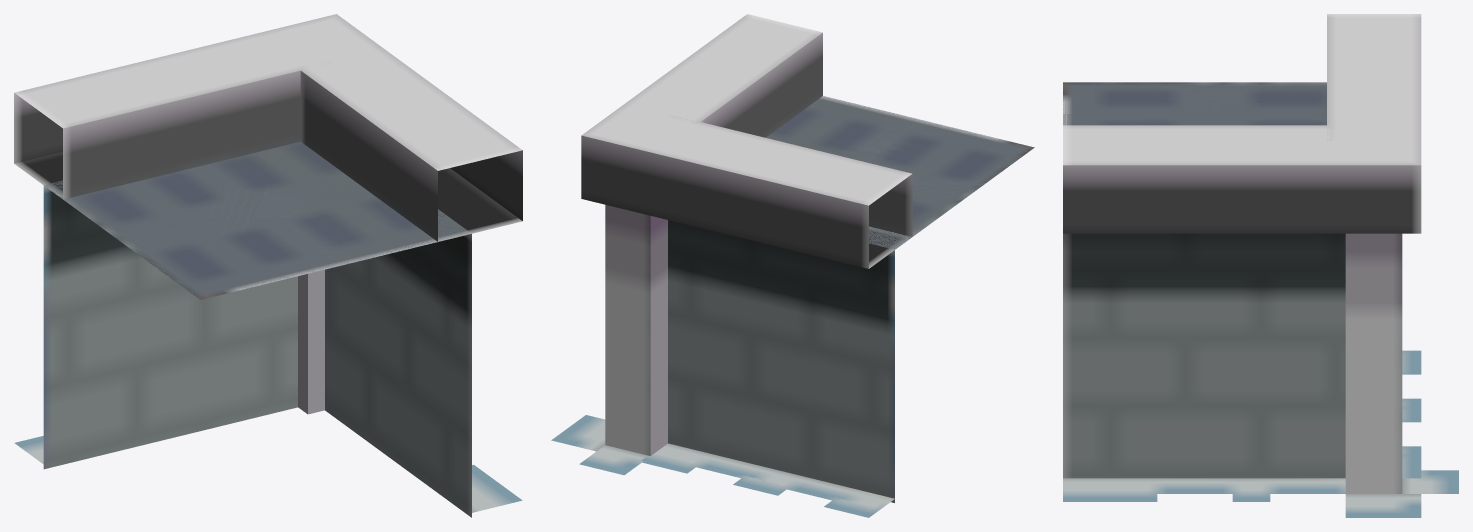
The model's file is Wall_Bricks_1.fbx.
3 views of the same model, side by side, from view 1: azimuth 30°, elevation 25°; view 2: azimuth 150°, elevation 25°; view 3: azimuth 270°, elevation 25° (orthographic). The views are drawn at different scales.
Parts seen in each view (by area): view 1: Wall_Corner_Top, Wall_Roof, Wall_Top, Wall_Corner_Bottom; view 2: Wall_Corner_Top, Wall_Top, Wall_Roof, Wall_Corner_Bottom, Wall_Bottom; view 3: Wall_Corner_Top, Wall_Roof, Wall_Corner_Bottom, Wall_Top, Wall_Bottom.
Part boxes in pixels (x1=…): Wall_Corner_Top: x1=14, y1=14, x2=522, y2=517; Wall_Roof: x1=44, y1=141, x2=471, y2=299; Wall_Top: x1=14, y1=27, x2=331, y2=198; Wall_Corner_Bottom: x1=26, y1=436, x2=522, y2=512; Wall_Corner_Top: x1=581, y1=14, x2=1031, y2=502; Wall_Top: x1=626, y1=115, x2=912, y2=268; Wall_Roof: x1=766, y1=96, x2=1034, y2=249; Wall_Corner_Bottom: x1=551, y1=415, x2=894, y2=517; Wall_Bottom: x1=641, y1=443, x2=885, y2=507; Wall_Corner_Top: x1=1063, y1=14, x2=1421, y2=493; Wall_Roof: x1=1063, y1=82, x2=1326, y2=125; Wall_Corner_Bottom: x1=1063, y1=350, x2=1458, y2=517; Wall_Top: x1=1327, y1=14, x2=1421, y2=141; Wall_Bottom: x1=1402, y1=350, x2=1421, y2=478.
Size of the model in its own units: 21 by 20 by 21.
Materials: 1 (1 with a texture image).
